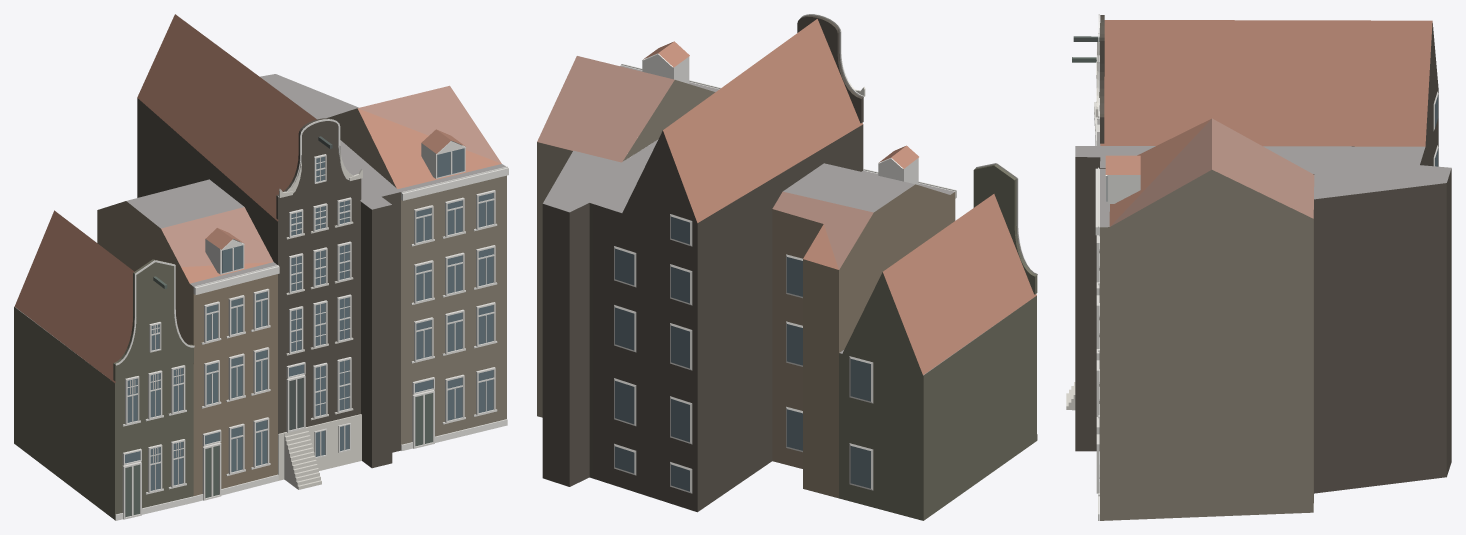
File: chunk-face-groenburgwal-41-57-h1.glb
The picture shows the model from 3 angles, left to right: view 1: azimuth 30°, elevation 25°; view 2: azimuth 150°, elevation 25°; view 3: azimuth 270°, elevation 25°; orthographic projection. The views are drawn at different scales.
Visible parts, largest first — view 1: face-groenburgwal-41-57-h1; view 2: face-groenburgwal-41-57-h1; view 3: face-groenburgwal-41-57-h1.
Boxes of the visible parts, x1,y1,x2,y2 form: face-groenburgwal-41-57-h1: [14, 14, 508, 520]; face-groenburgwal-41-57-h1: [537, 14, 1037, 520]; face-groenburgwal-41-57-h1: [1066, 14, 1451, 520].
Bounding box in the file's own units: 20.9 × 17.87 × 15.65.
